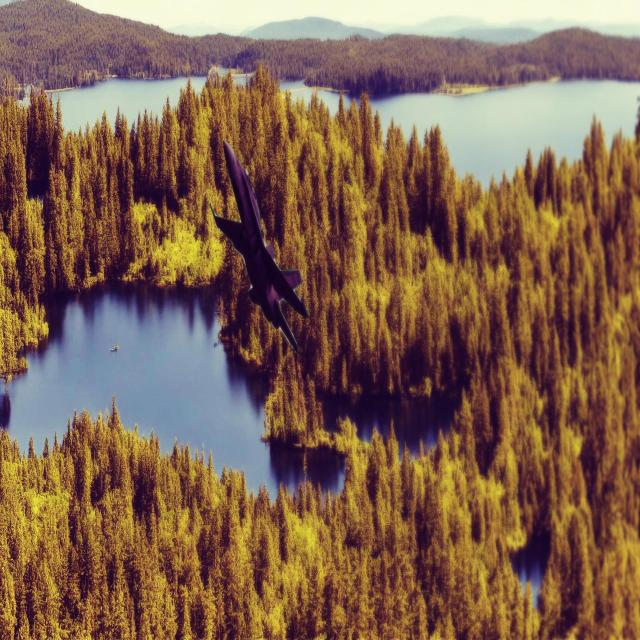airplane: (208, 138, 309, 354)
